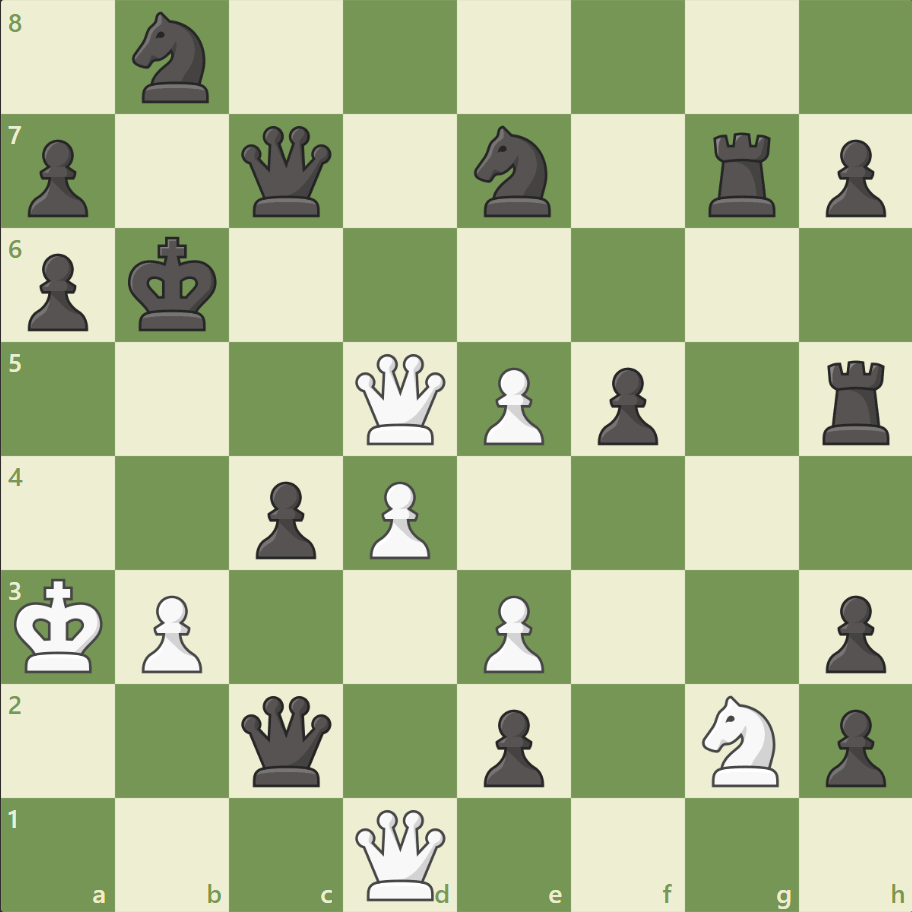K: (11, 571, 111, 679)
N: (692, 688, 789, 791)
P: (474, 359, 549, 450), (133, 586, 208, 677), (474, 586, 549, 677), (361, 473, 435, 564)
Q: (351, 349, 450, 449), (351, 804, 450, 903)
k: (124, 231, 224, 339)
n: (124, 7, 222, 110), (465, 121, 562, 223)
p: (20, 132, 95, 223), (20, 246, 95, 337), (247, 473, 322, 564), (474, 700, 549, 791), (815, 132, 889, 223), (588, 359, 662, 450), (815, 586, 889, 677), (815, 700, 889, 791)
q: (237, 122, 336, 222), (237, 690, 336, 789)
r: (700, 125, 783, 222), (814, 352, 897, 449)
